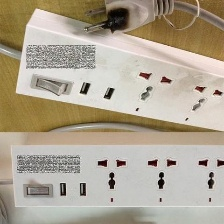three_eye_plug: (10, 4, 224, 132), (5, 130, 224, 212)
